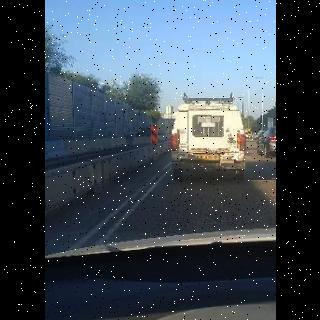LicensePlate: (196, 155, 219, 160)
